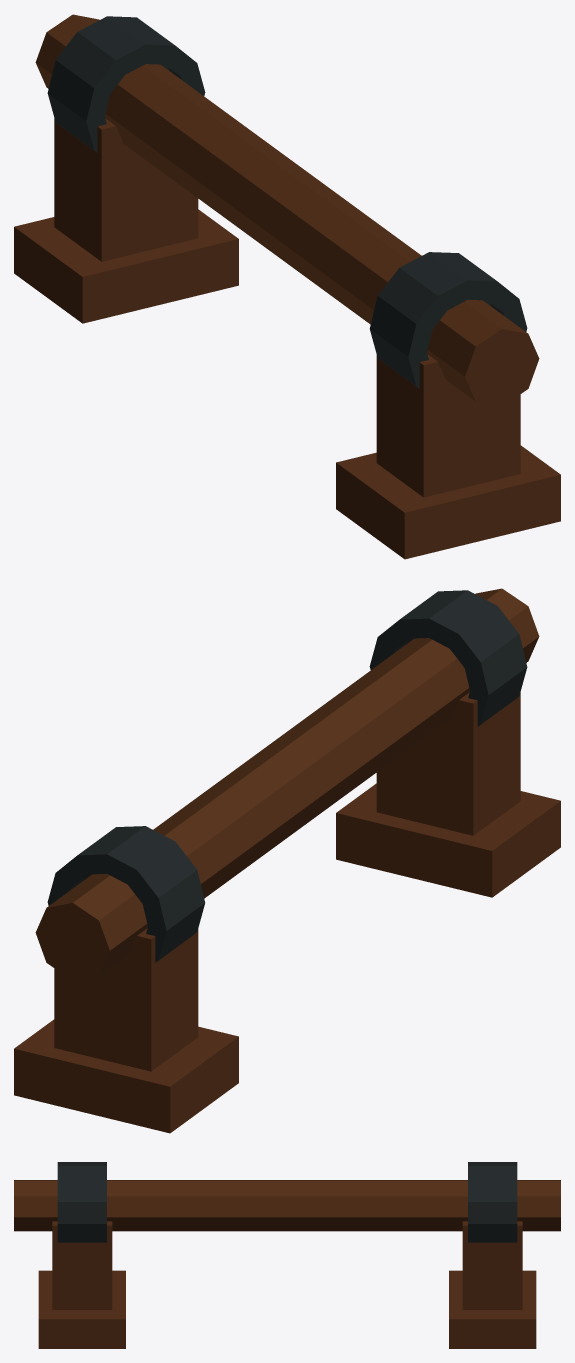
File: vf_shaft_2m.obj
3 renders of one model, top to bottom at view 1: azimuth 30°, elevation 25°; view 2: azimuth 150°, elevation 25°; view 3: azimuth 270°, elevation 25°, orthographic. The views are drawn at different scales.
Visible parts, largest first — view 1: Static_Oak, Rotor_Oak, Static_Iron; view 2: Static_Oak, Rotor_Oak, Static_Iron; view 3: Rotor_Oak, Static_Oak, Static_Iron.
Part boxes in pixels (x1=…): Static_Oak: x1=14, y1=118, x2=560, y2=559; Rotor_Oak: x1=35, y1=14, x2=539, y2=406; Static_Iron: x1=47, y1=16, x2=527, y2=388; Static_Oak: x1=14, y1=692, x2=560, y2=1133; Rotor_Oak: x1=35, y1=588, x2=539, y2=980; Static_Iron: x1=47, y1=590, x2=527, y2=962; Rotor_Oak: x1=14, y1=1180, x2=560, y2=1231; Static_Oak: x1=38, y1=1221, x2=536, y2=1348; Static_Iron: x1=57, y1=1162, x2=517, y2=1242.
Bounding box in the file's own units: 0.42 × 0.64 × 2.
